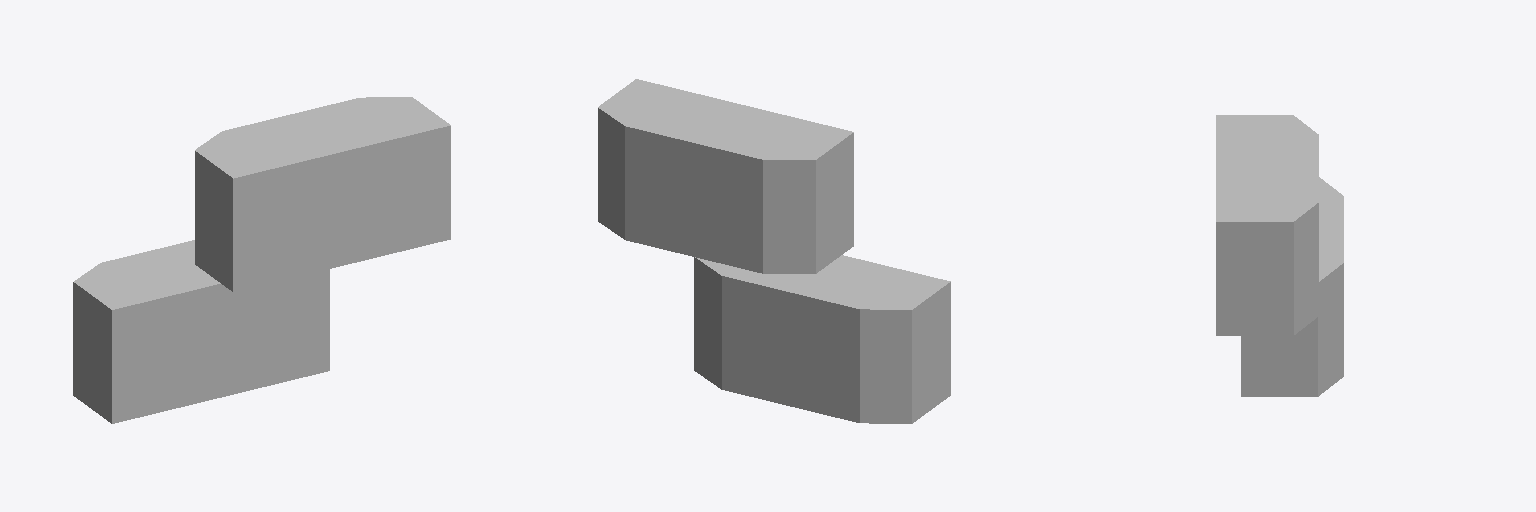
File: mylandscaping_block1_bot_m.obj
3 views of the same model, side by side, from view 1: azimuth 30°, elevation 25°; view 2: azimuth 150°, elevation 25°; view 3: azimuth 270°, elevation 25° (orthographic).
Visible parts, largest first — view 1: Block_full_Bottom_Cube.025; view 2: Block_full_Bottom_Cube.025; view 3: Block_full_Bottom_Cube.025.
Part boxes in pixels (bbox=[...]): Block_full_Bottom_Cube.025: bbox=[73, 97, 450, 423]; Block_full_Bottom_Cube.025: bbox=[598, 79, 950, 423]; Block_full_Bottom_Cube.025: bbox=[1216, 115, 1343, 396].
Bounding box in the file's own units: 1.5 × 1 × 0.5054.